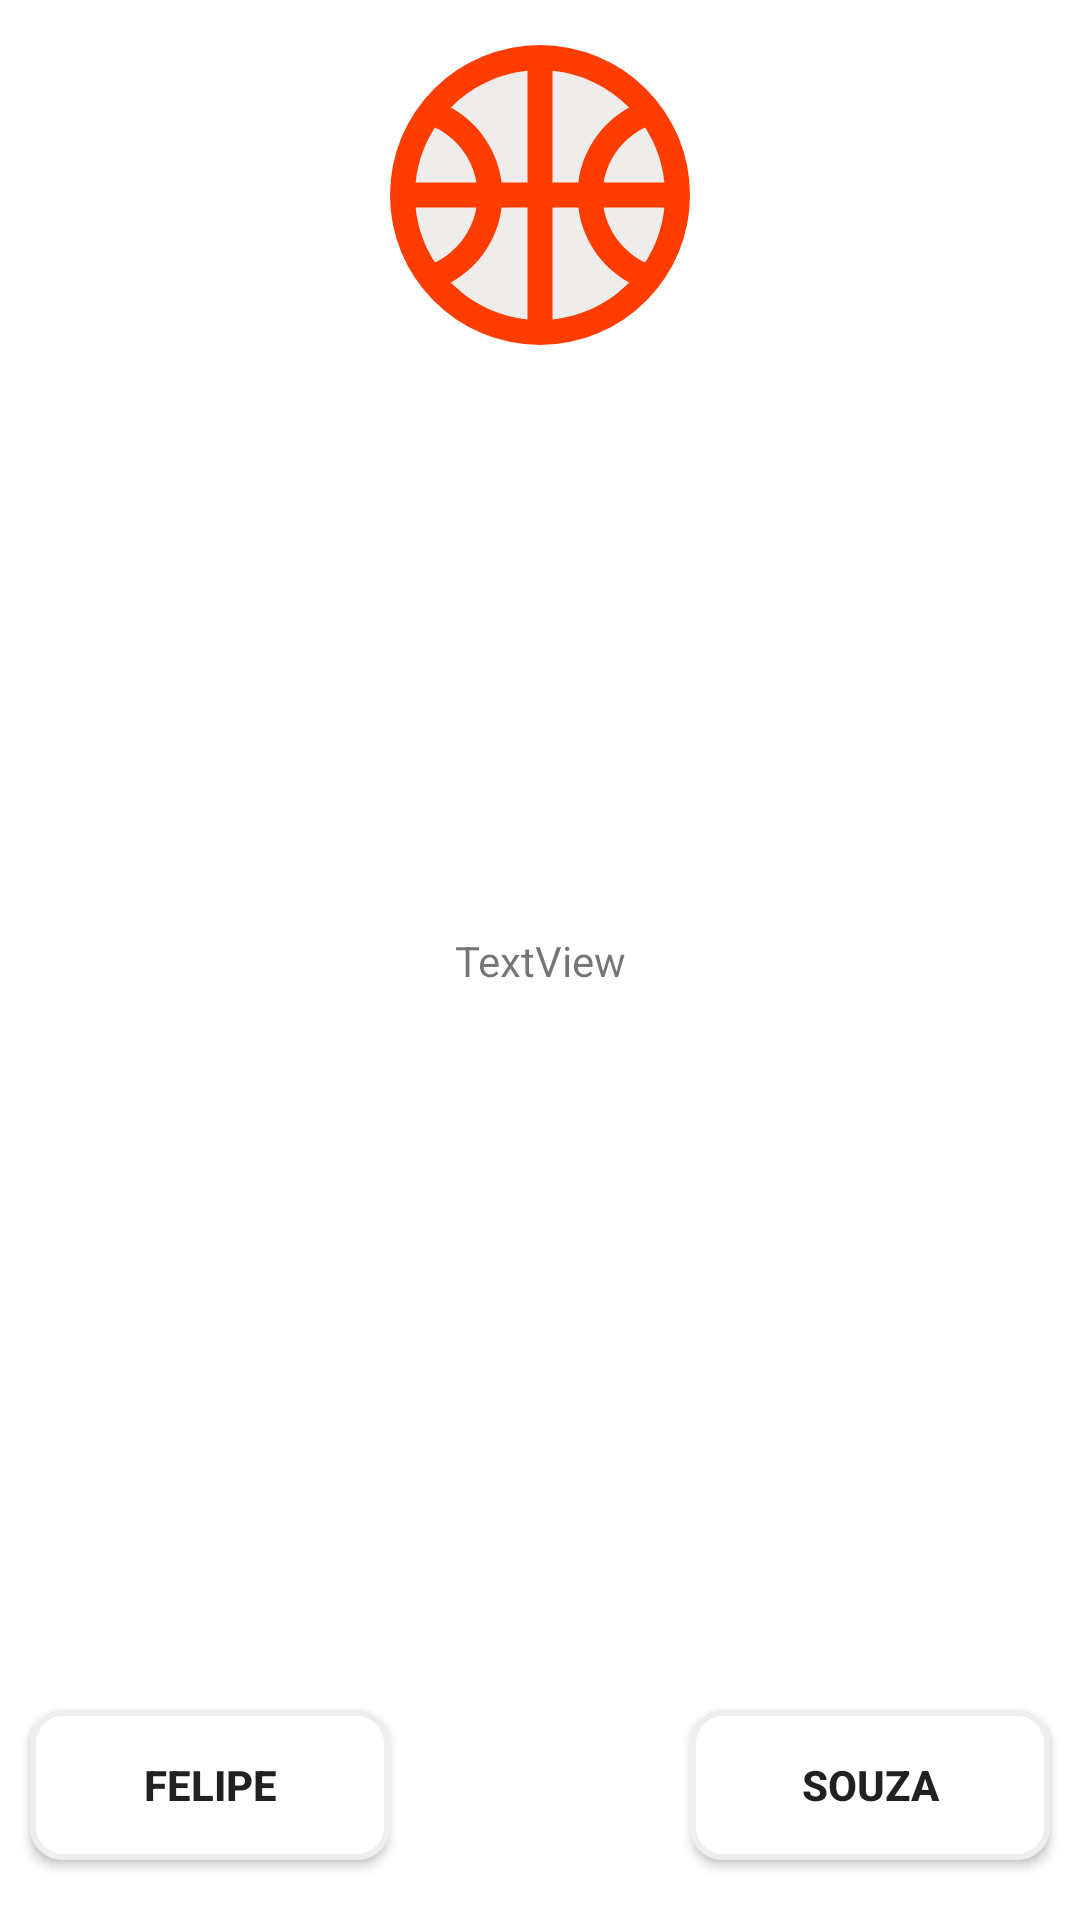

Screen size 1080x1920. Icon name, then its center in pixels as [x,y]:
sports basketball: [540,195]
